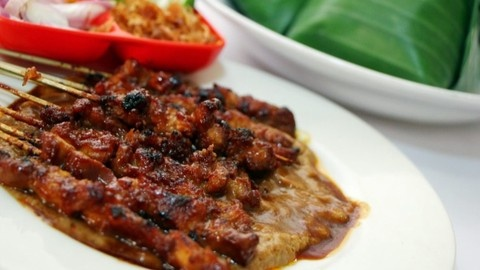sate_madura: (1, 51, 324, 268)
